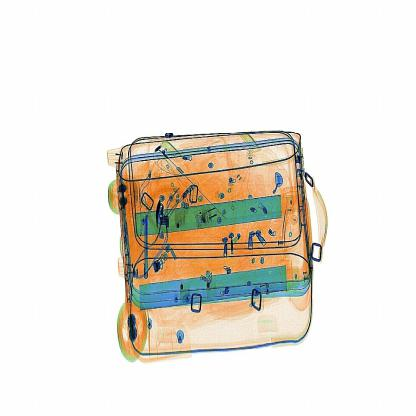pliers: (137, 209, 152, 285)
